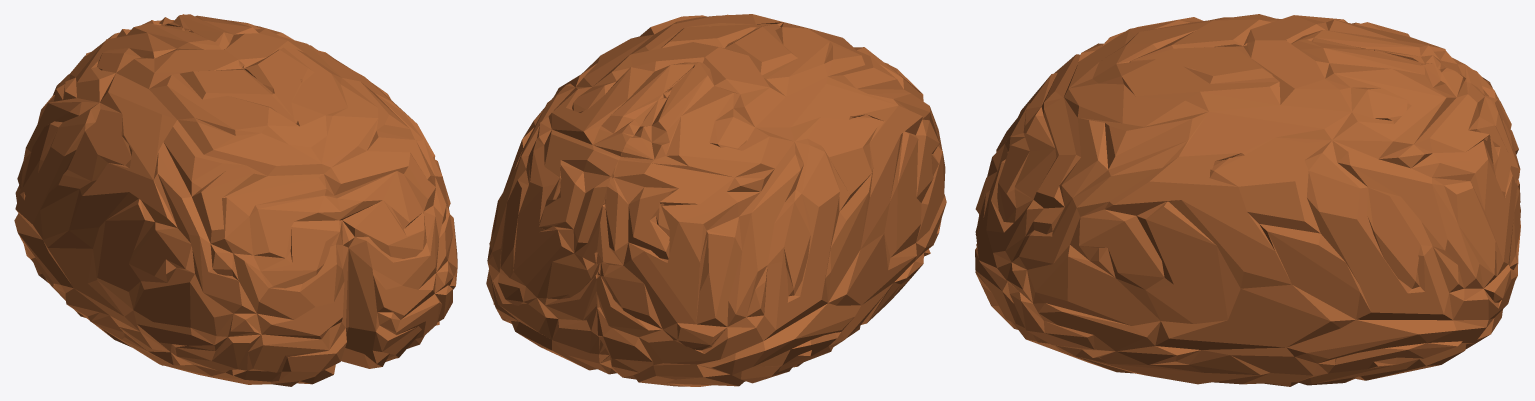
Rendered from Ingredient_brain_1.fbx.
3 renders of one model, left to right at view 1: azimuth 30°, elevation 25°; view 2: azimuth 150°, elevation 25°; view 3: azimuth 270°, elevation 25°, orthographic. The views are drawn at different scales.
Visible parts, largest first — view 1: Brain.002; view 2: Brain.002; view 3: Brain.002.
Part boxes in pixels (<box>): Brain.002: <box>14,14,457,386</box>; Brain.002: <box>486,14,946,386</box>; Brain.002: <box>975,14,1520,386</box>.
Bounding box in the file's own units: 23.16 × 19.13 × 31.24.
